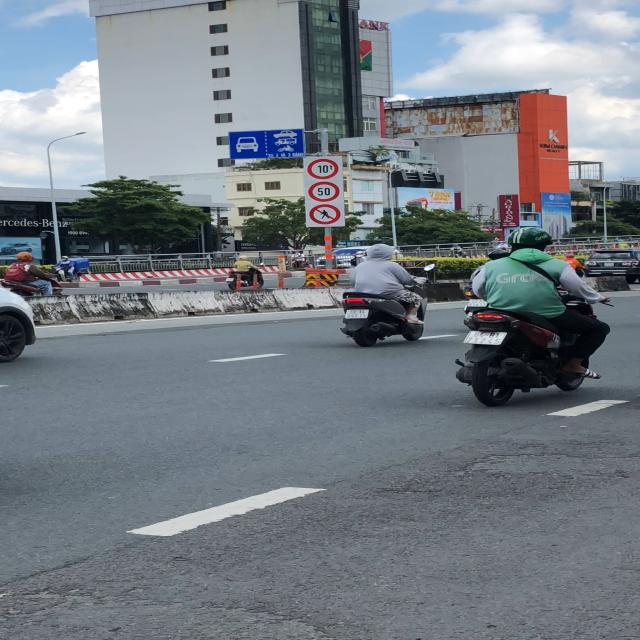Bien bao toc do toi da cho phep: (306, 179, 344, 201)
